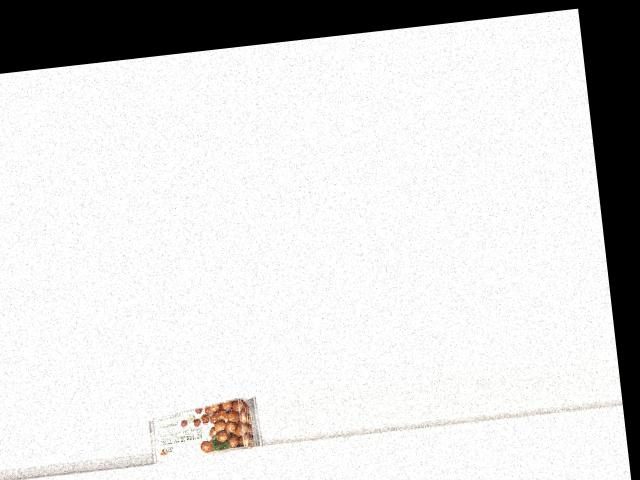chocolate: (145, 395, 261, 461)
